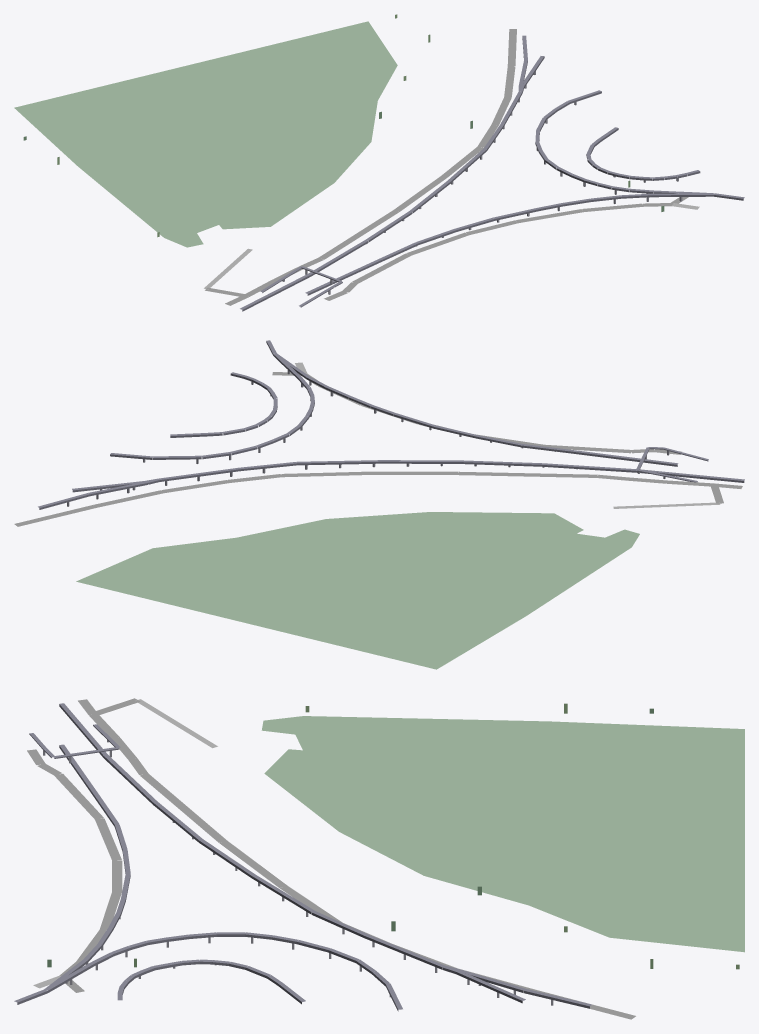
3 views of the same model, one above another, from view 1: azimuth 30°, elevation 25°; view 2: azimuth 150°, elevation 25°; view 3: azimuth 270°, elevation 25° (orthographic). The views are drawn at different scales.
Size of the model in its own units: 525 by 10.08 by 510.
